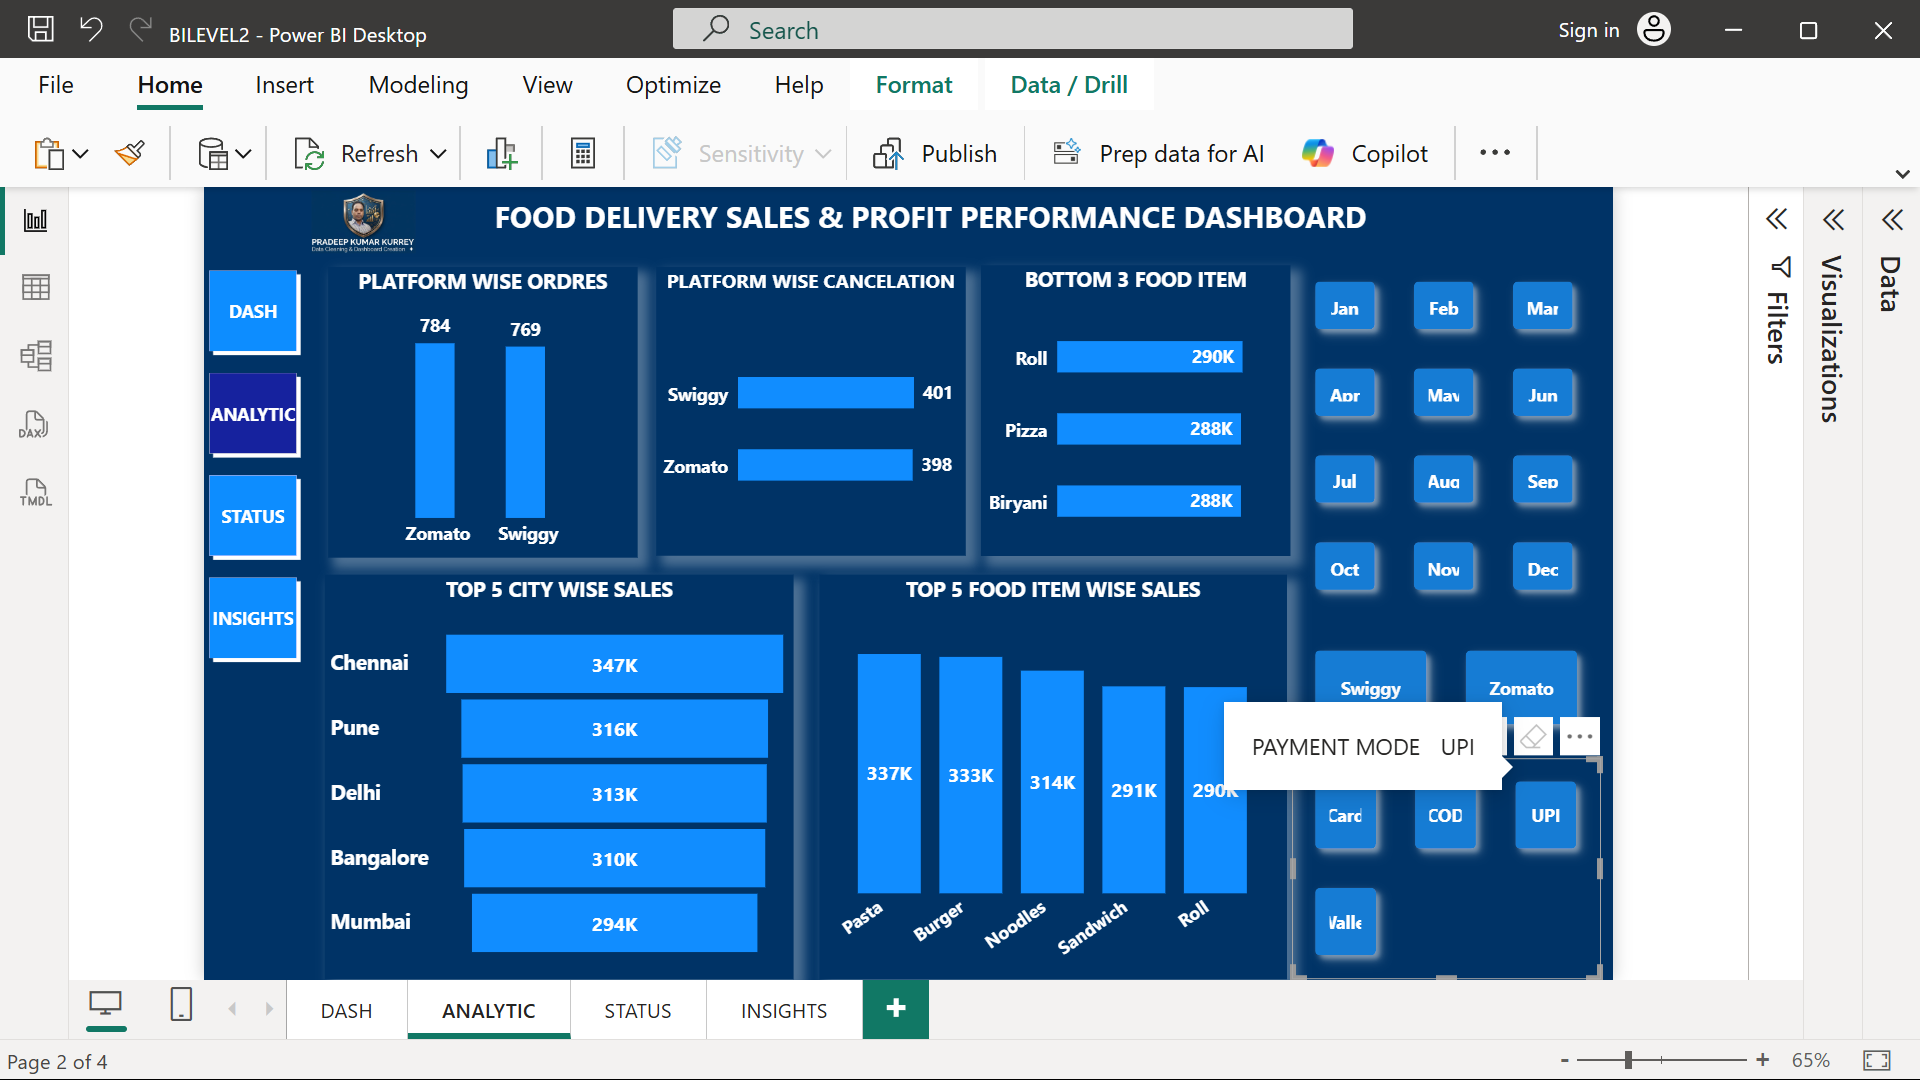

Layout of this report page (visuals, bound fields, positions):
{"tool":"powerbi","page":{"name":"ANALYTIC","canvas":[1280,720],"ordinal":1},"visuals":[{"type":"pageNavigator","box":[5.8,71.2,80.8,363.5],"z":0},{"type":"textbox","box":[11,3.7,1258.6,62.6],"z":1000},{"type":"image","box":[53.4,3.7,182.2,57],"z":2000},{"type":"advancedSlicerVisual","fields":{"Values":["DATE TABLE.MONTH"]},"box":[988.1,64.4,277.8,323.8],"z":3000},{"type":"advancedSlicerVisual","fields":{"Values":["Sheet1.PLATFORM"]},"box":[988.5,398.1,280.8,109.6],"z":4000},{"type":"advancedSlicerVisual","fields":{"Values":["Sheet1.PAYMENT MODE"]},"box":[988.1,518.9,281.5,200.6],"z":5000},{"type":"clusteredColumnChart","title":"PLATFORM  WISE ORDRES","fields":{"Category":["Sheet1.PLATFORM"],"Y":["DATE TABLE.ORDER 2024"]},"box":[103.8,73.1,280.8,263.4],"z":6000},{"type":"clusteredBarChart","title":"PLATFORM  WISE CANCELATION","fields":{"Category":["Sheet1.PLATFORM"],"Y":["DATE TABLE.CANCEL"]},"box":[400,72.1,280.8,263.4],"z":7000},{"type":"clusteredBarChart","title":"BOTTOM 3 FOOD ITEM","fields":{"Category":["Sheet1.FOOD ITEM"],"Y":["DATE TABLE.TOTAL SALES 2024"]},"box":[696.2,71.2,280.8,263.4],"z":8000},{"type":"funnel","title":"TOP 5 CITY WISE SALES","fields":{"Y":["DATE TABLE.TOTAL SALES 2024"],"Category":["Sheet1.CITY"]},"box":[103.8,351.9,425,367.3],"z":9000},{"type":"columnChart","title":"TOP 5 FOOD ITEM WISE SALES","fields":{"Category":["Sheet1.FOOD ITEM"],"Y":["DATE TABLE.TOTAL SALES 2024"]},"box":[550,351.9,425,367.3],"z":10000}]}

Visuals, with their boxes on the page's 1280x720 design canvas (x1, y1, x2, y2). These are canvas units, not pixel positions in the 1920x1080 screenshot, which may show the page scaled, cropped or inside an application window:
pageNavigator: crop(6, 71, 87, 435)
textbox: crop(11, 4, 1270, 66)
image: crop(53, 4, 236, 61)
advancedSlicerVisual - DATE TABLE.MONTH: crop(988, 64, 1266, 388)
advancedSlicerVisual - Sheet1.PLATFORM: crop(988, 398, 1269, 508)
advancedSlicerVisual - Sheet1.PAYMENT MODE: crop(988, 519, 1270, 720)
"PLATFORM  WISE ORDRES" clusteredColumnChart: crop(104, 73, 385, 336)
"PLATFORM  WISE CANCELATION" clusteredBarChart: crop(400, 72, 681, 336)
"BOTTOM 3 FOOD ITEM" clusteredBarChart: crop(696, 71, 977, 335)
"TOP 5 CITY WISE SALES" funnel: crop(104, 352, 529, 719)
"TOP 5 FOOD ITEM WISE SALES" columnChart: crop(550, 352, 975, 719)
